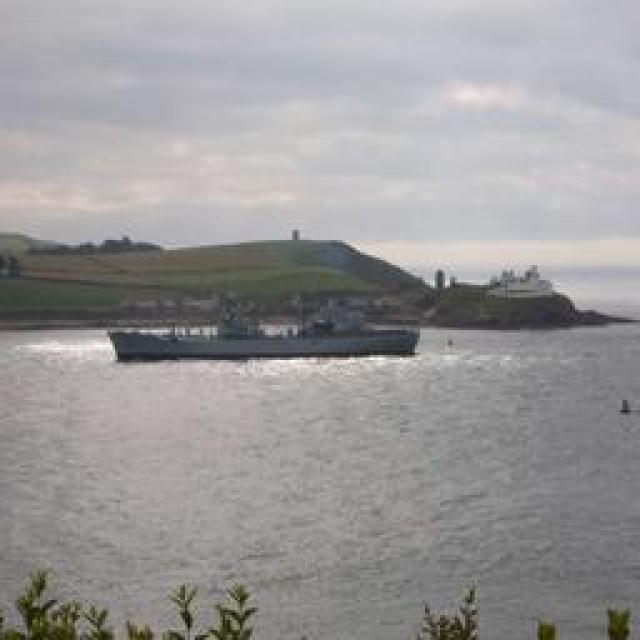CIV_Ship: (108, 318, 416, 360)
